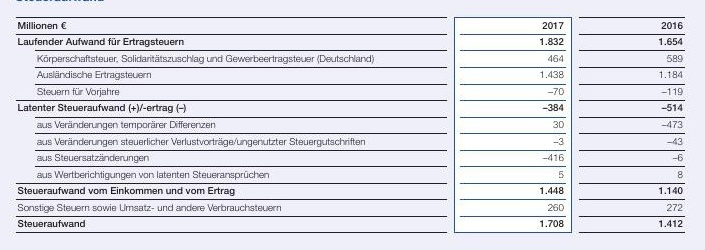table: (0, 0, 705, 250)
